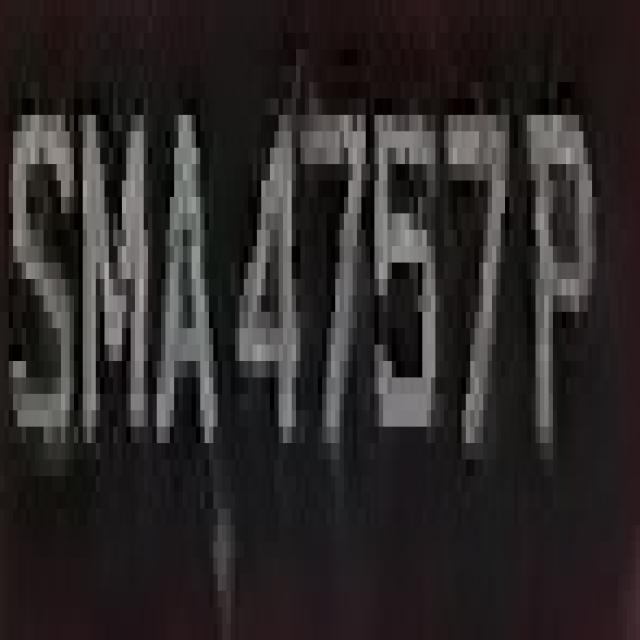4: (235, 66, 309, 476)
5: (375, 98, 444, 476)
7: (431, 33, 527, 459), (305, 66, 374, 460)
A: (148, 49, 218, 558)
M: (78, 82, 152, 558)
P: (531, 66, 601, 476)
S: (13, 66, 78, 508)
